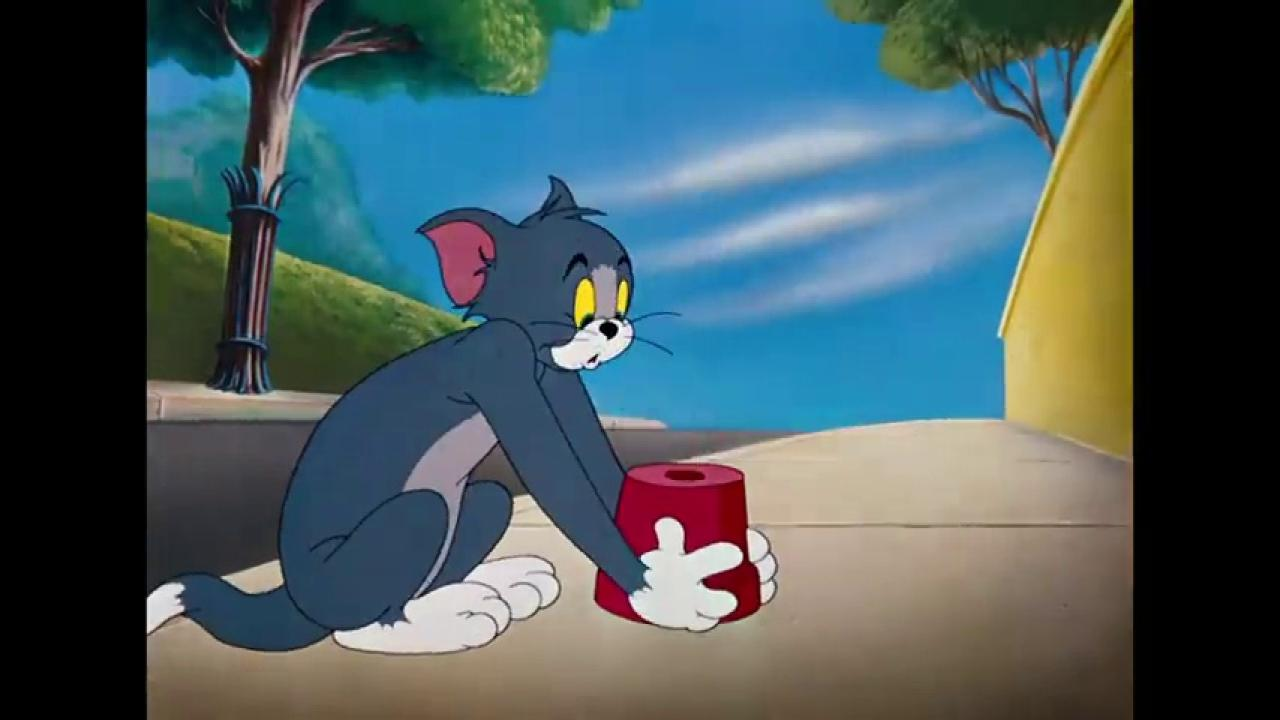Tom: (148, 172, 780, 656)
